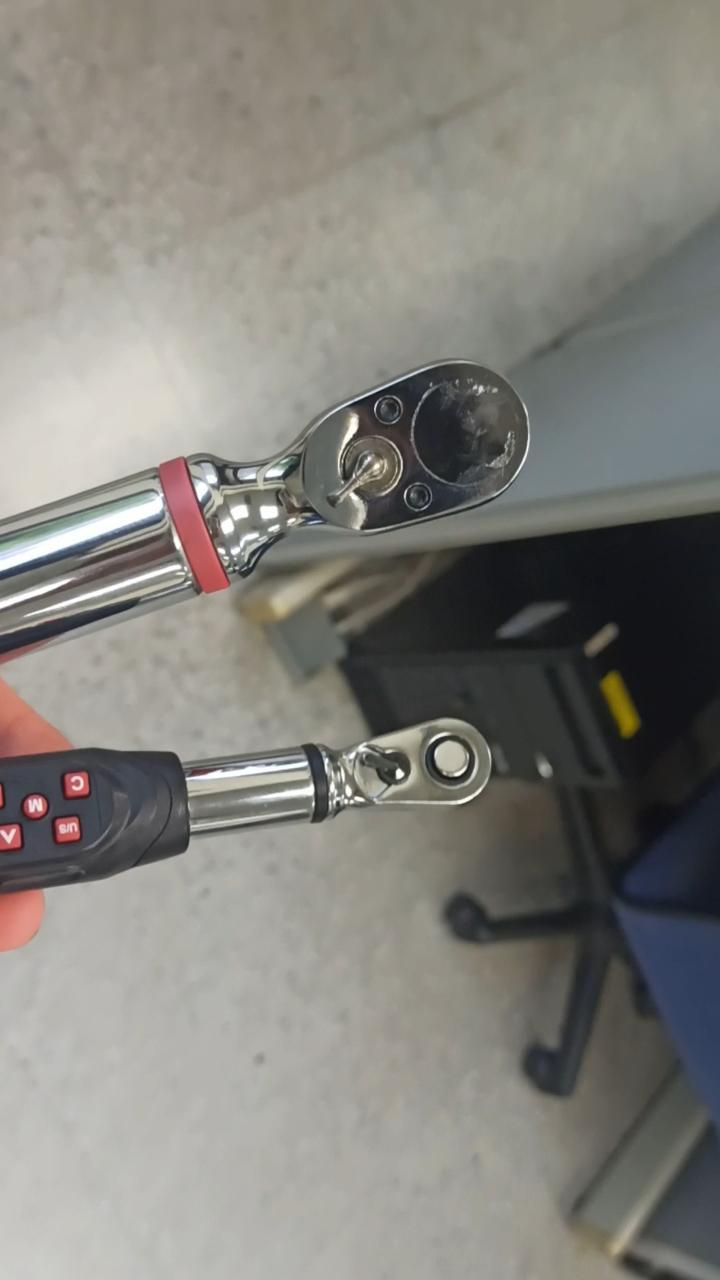Tool: (192, 362, 532, 572), (323, 722, 498, 818)
